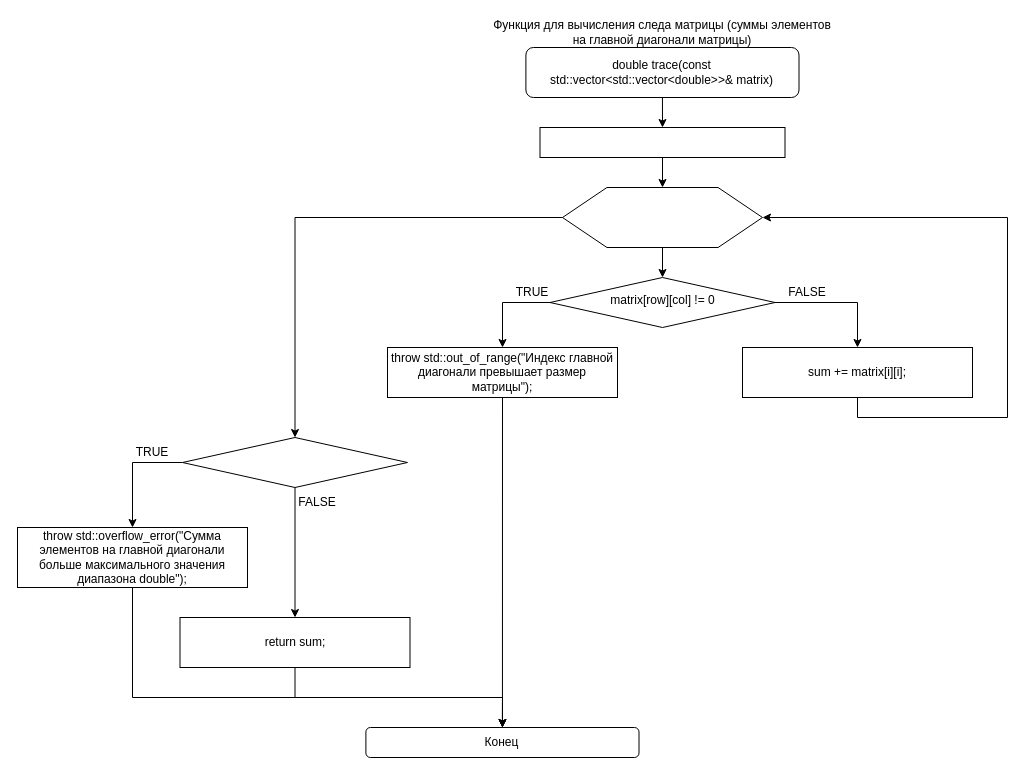
This 1033x775 diagram has some shape labels left out. Here are the shapes that lost their labels. From the top down, the centre of each, then its label:
pixel 662 142: double sum = 0.0;
pixel 662 217: size_t i = 0; i < matrix.size(); i++
pixel 295 462: sum > DBL_MAX
